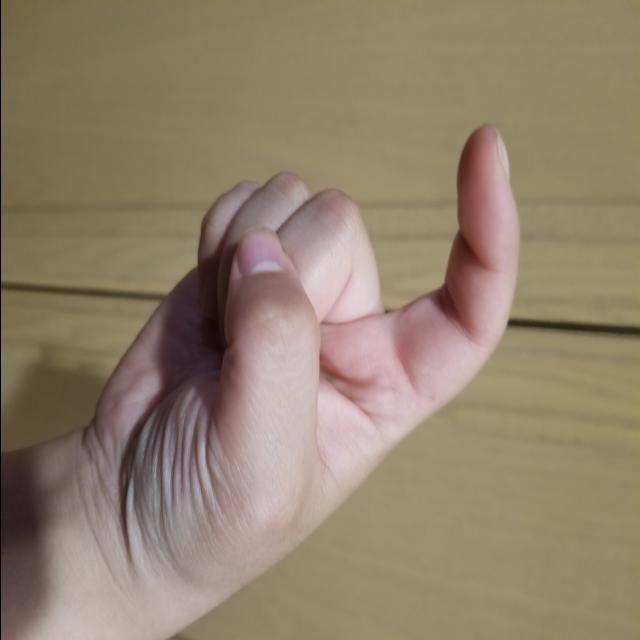X: (83, 114, 526, 640)
